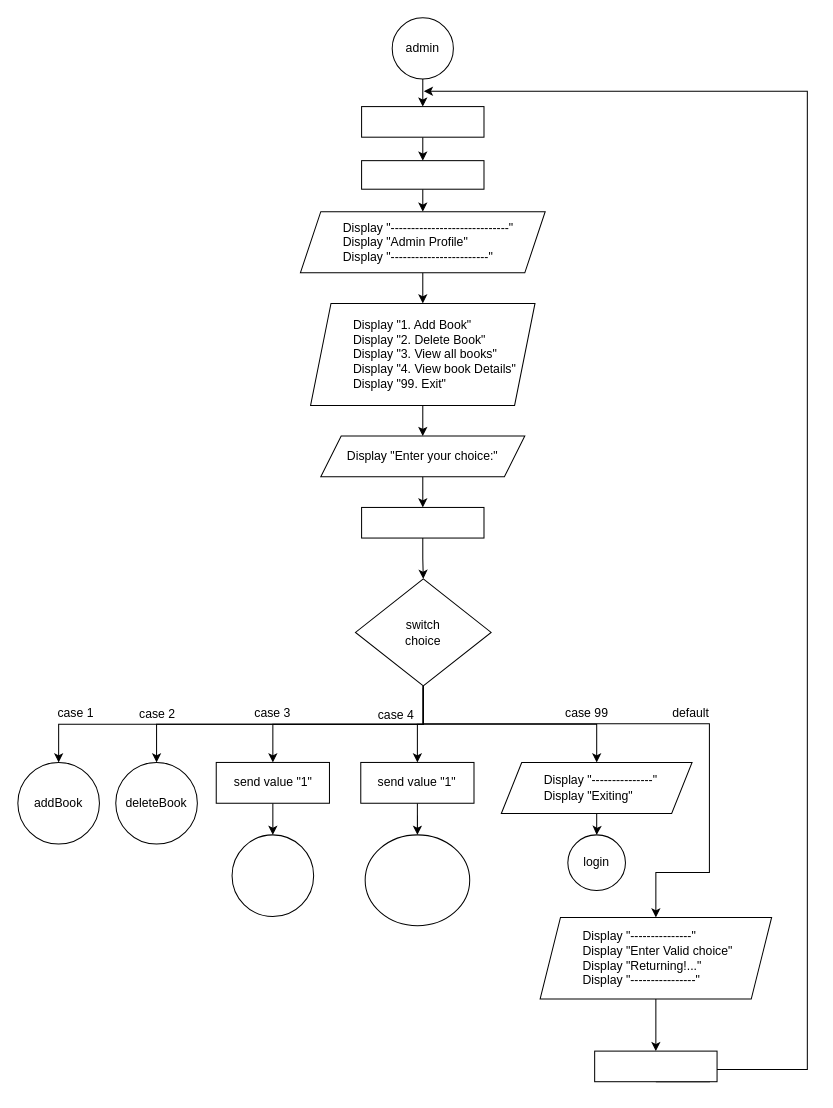
Image size: 833x1108. Some labels were removed from this diagram. Each missing label, with the centre of its shape:
"clear terminal" goes at point (422, 174).
"get choice" goes at point (422, 522).
"load header files" goes at point (422, 121).
"viewAllBook" goes at point (272, 875).
"viewBookDetails" goes at point (417, 880).
"wait 1.5 seconds" goes at point (655, 1066).
